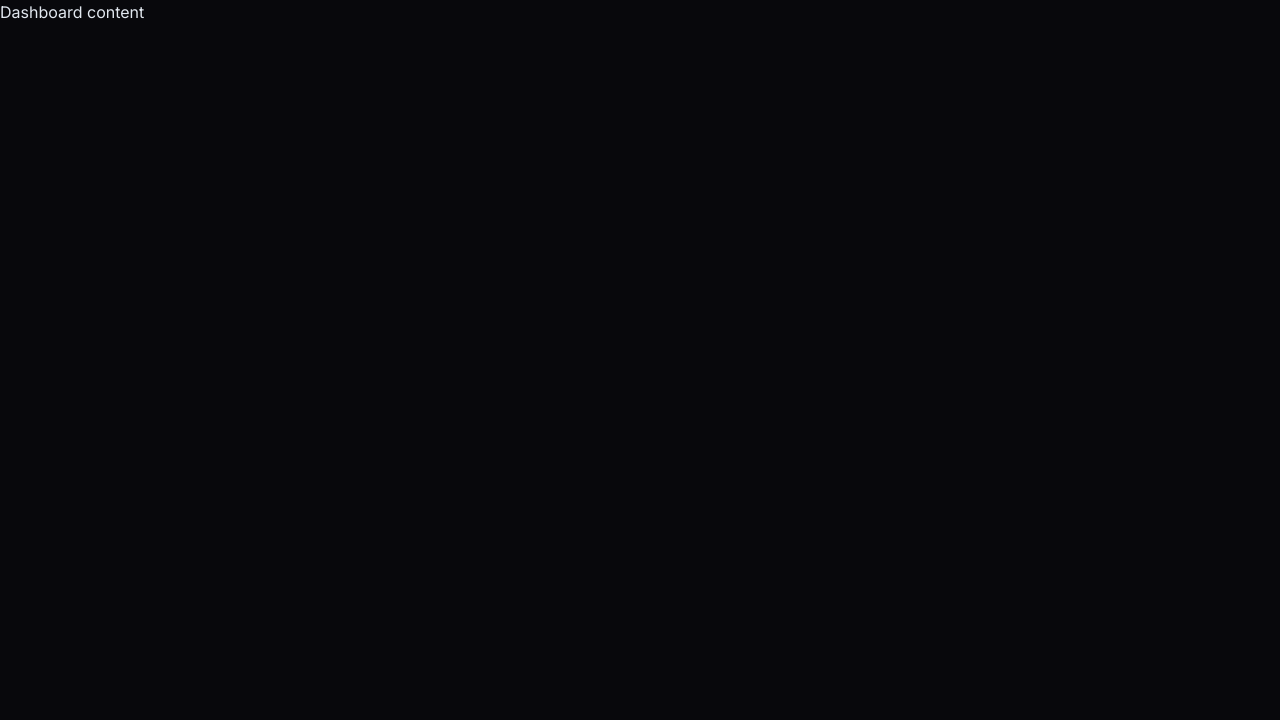
Test: CommandPalette › navigates with arrow keys and Enter
Type keys "{Control>}k{/Control}"
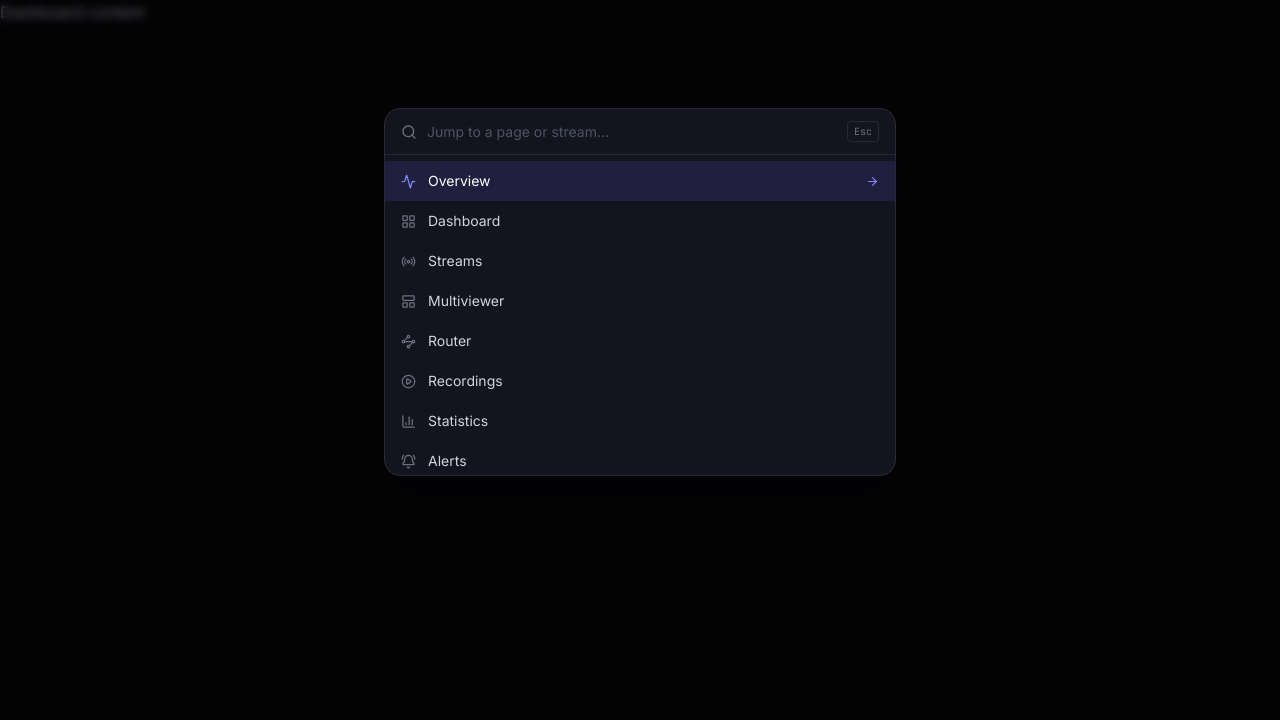
Type "a" into the field named "Search pages and streams". click: coordinates (632, 132)
box: [427, 122, 837, 142]
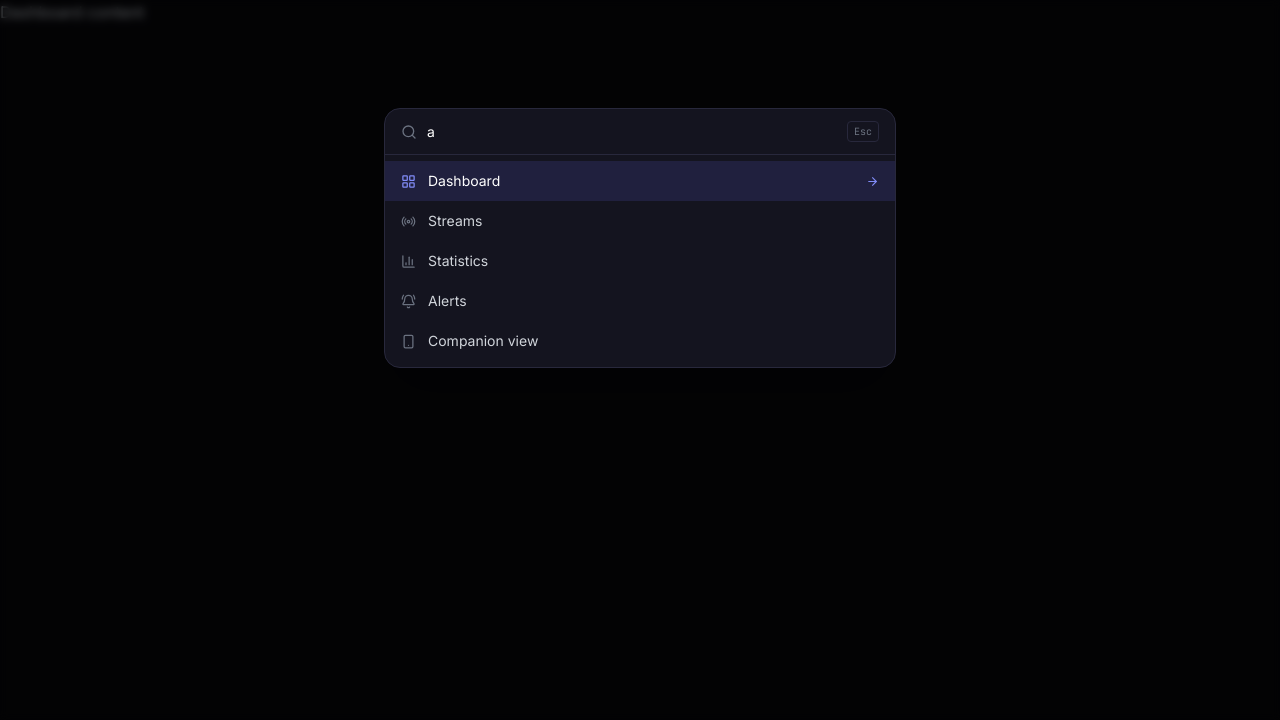
// "Overview", "Dashboard"... — narrow to something unambiguous first.
Replace the text in the field named "Search pages and streams" with "alert". click: coordinates (632, 132)
box: [427, 122, 837, 142]
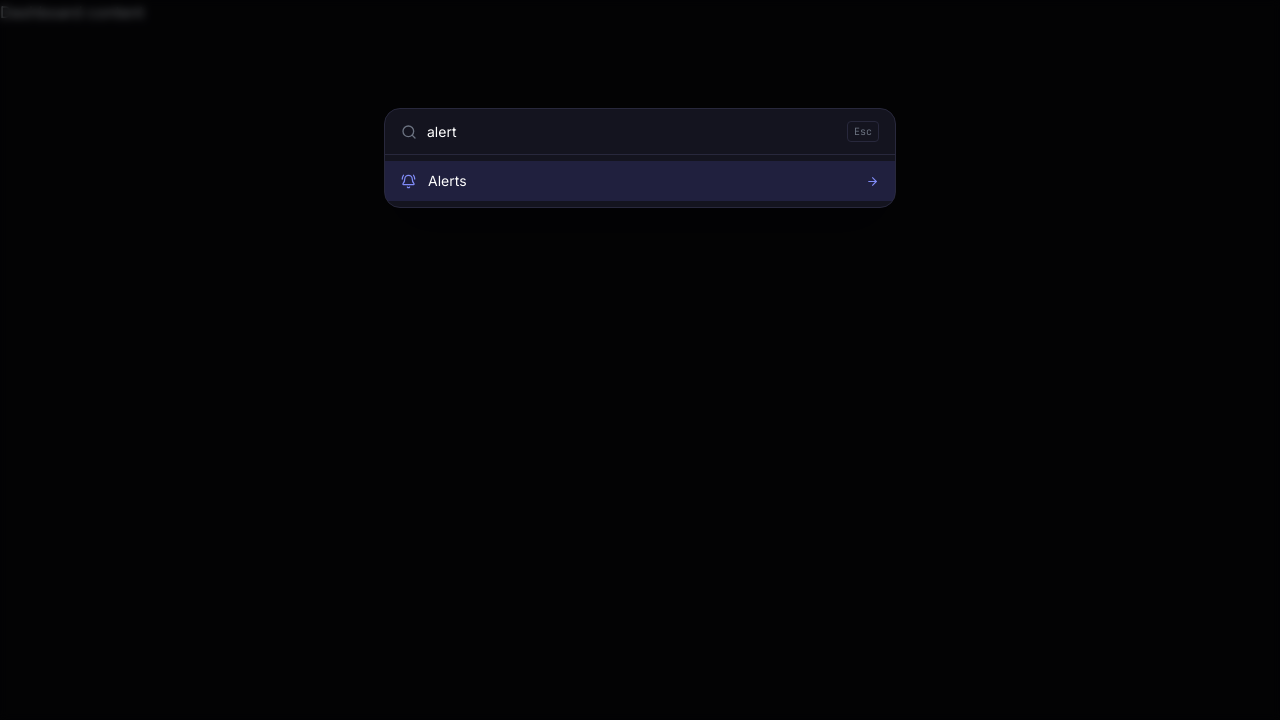
Press Enter
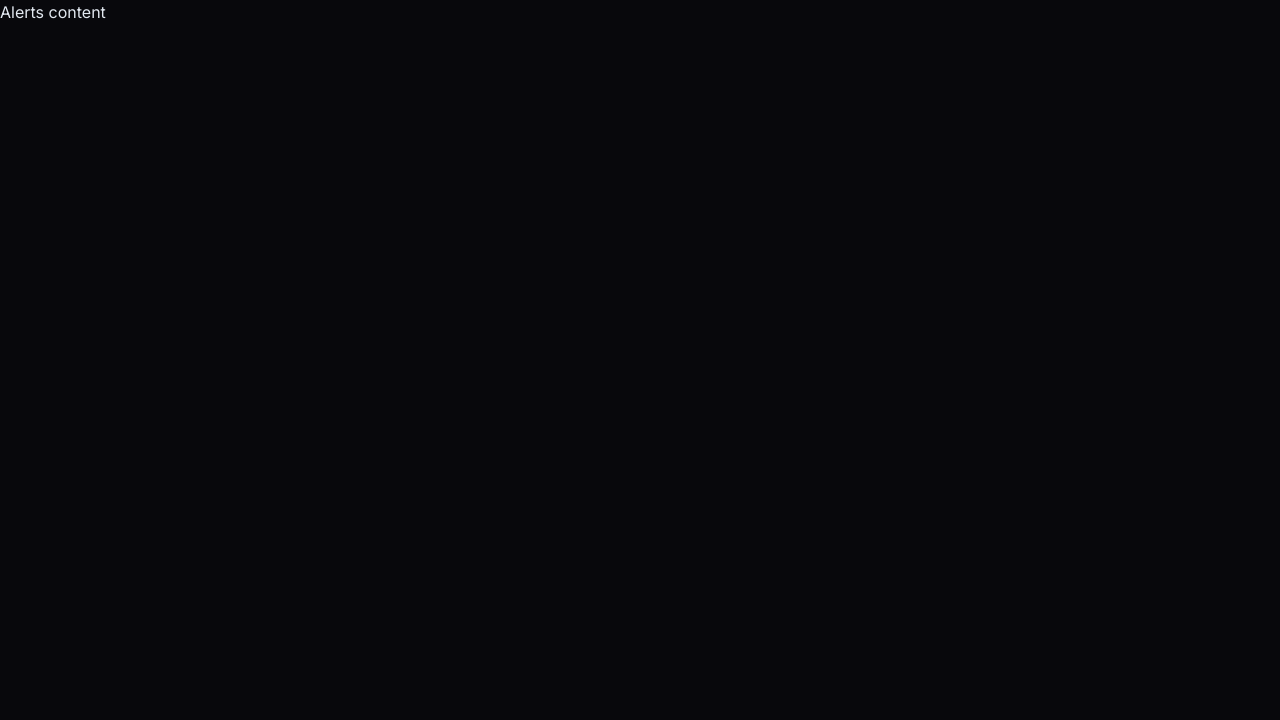
expect the text "Alerts content" is shown: met, box [0, 2, 106, 22]
